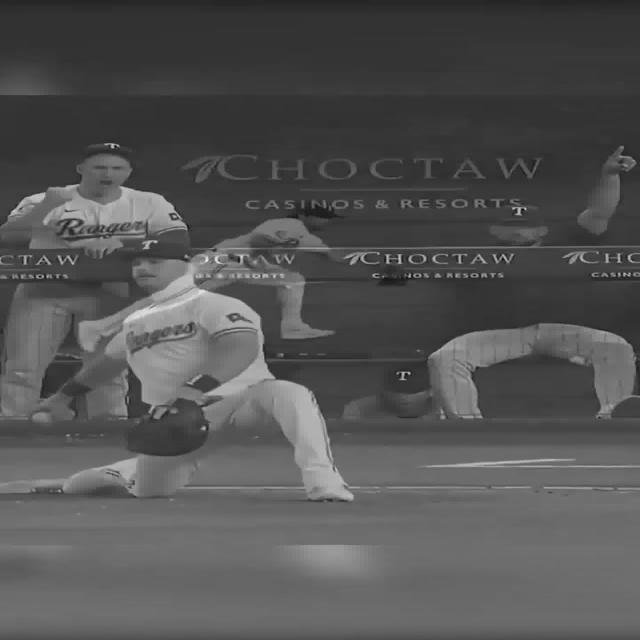base: (0, 484, 99, 494)
baseball: (30, 411, 52, 424)
baseball_glove: (124, 398, 210, 457)
shoe: (70, 467, 138, 497), (280, 322, 336, 340), (305, 484, 354, 502)
